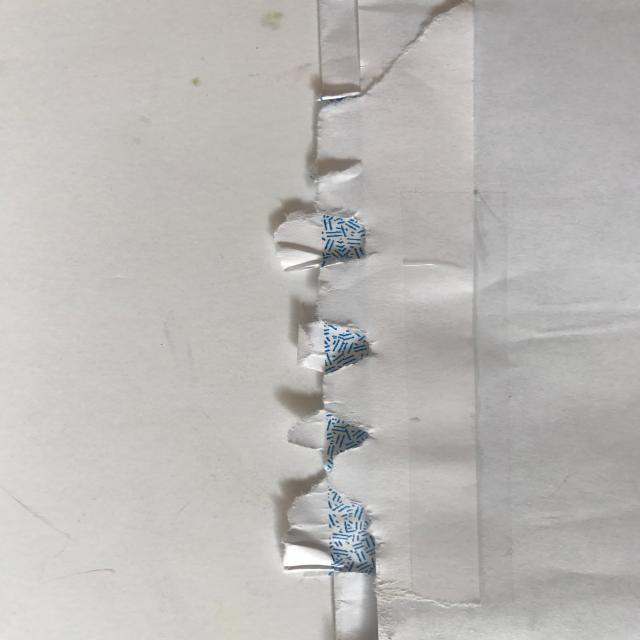paper: (277, 0, 640, 640)
